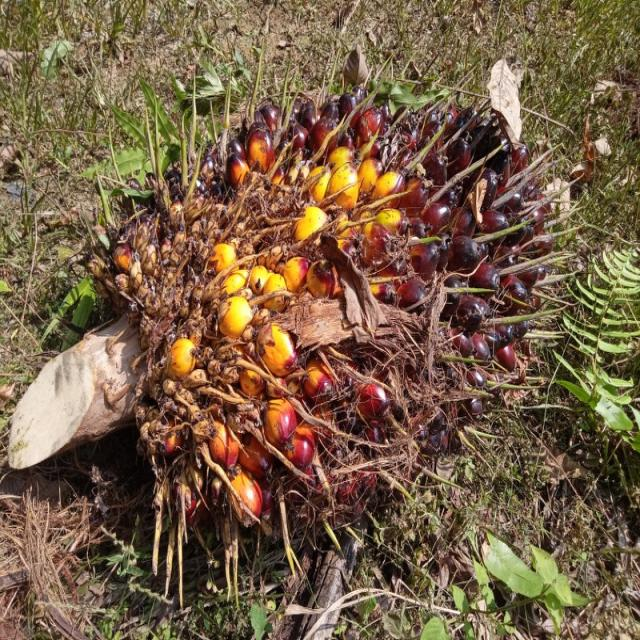fraksi 1: (102, 76, 556, 550)
